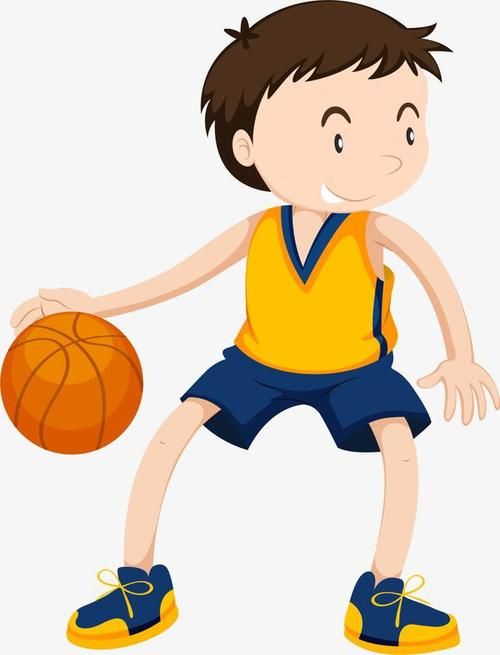ball: (1, 311, 144, 454)
